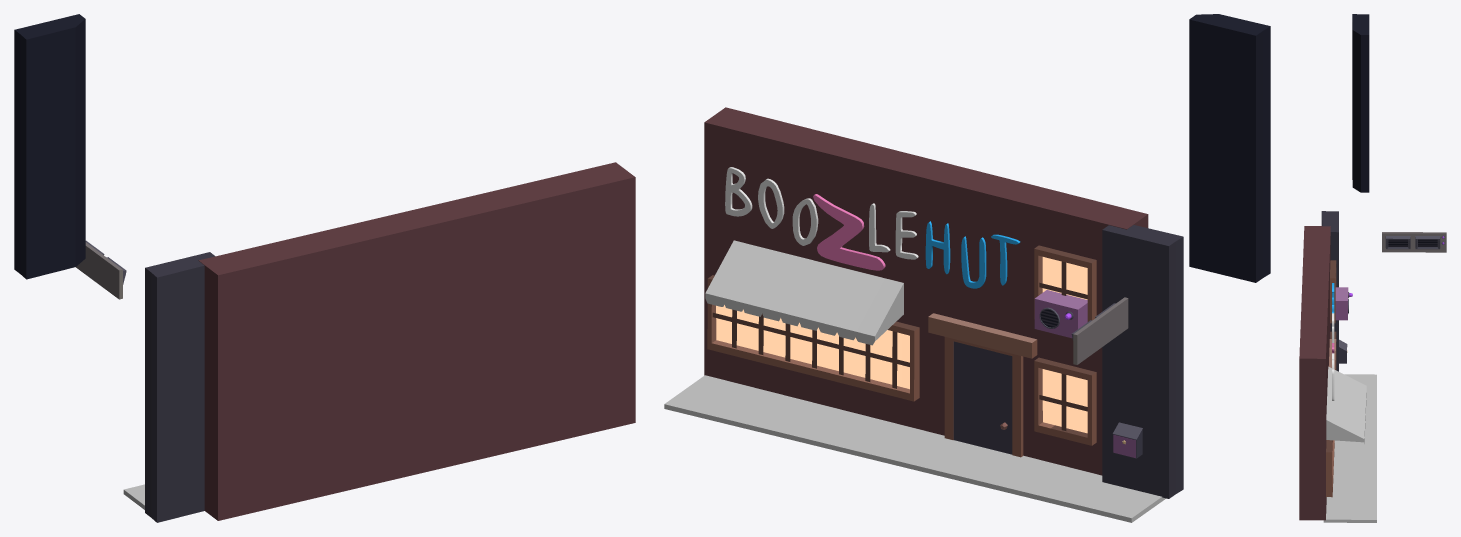
The model's file is CMBoozlehut.fbx.
3 renders of one model, left to right at view 1: azimuth 30°, elevation 25°; view 2: azimuth 150°, elevation 25°; view 3: azimuth 270°, elevation 25°, orthographic. The views are drawn at different scales.
Visible parts, largest first — view 1: CrateFacade.013, CrateSupport.002, CrateSupport.001, Vents.008; view 2: CrateFacade.013, CrateSupport.002, CrateSupport.001, Platform.068, Windows.042, Awning.172, Text.046, CornerHome_Door.034, CornerHome_DoorFrame.071, ACUnit.008, Vents.008, Mailbox.028; view 3: CrateFacade.013, Platform.068, CrateSupport.002, Awning.172, Vents.008, CrateSupport.001, Windows.042, ACUnit.008, Text.046.
Boxes of the visible parts, <box> form: CrateFacade.013: <box>198,162,635,520</box>; CrateSupport.002: <box>14,14,85,279</box>; CrateSupport.001: <box>145,252,215,522</box>; Vents.008: <box>76,240,126,299</box>; CrateFacade.013: <box>704,107,1148,475</box>; CrateSupport.002: <box>1189,14,1270,282</box>; CrateSupport.001: <box>1102,225,1183,498</box>; Platform.068: <box>664,375,1165,522</box>; Windows.042: <box>707,245,1096,445</box>; Awning.172: <box>705,240,903,345</box>; Text.046: <box>725,167,1020,288</box>; CornerHome_Door.034: <box>953,341,1012,454</box>; CornerHome_DoorFrame.071: <box>928,313,1037,457</box>; ACUnit.008: <box>1034,290,1087,338</box>; Vents.008: <box>1071,297,1128,364</box>; Mailbox.028: <box>1112,422,1142,458</box>; CrateFacade.013: <box>1299,226,1330,520</box>; Platform.068: <box>1323,374,1376,522</box>; CrateSupport.002: <box>1352,14,1369,192</box>; Awning.172: <box>1326,366,1366,443</box>; Vents.008: <box>1382,232,1446,252</box>; CrateSupport.001: <box>1321,211,1338,371</box>; Windows.042: <box>1326,260,1336,497</box>; ACUnit.008: <box>1335,287,1352,320</box>; Text.046: <box>1332,283,1334,400</box>.
Size of the model in its own units: 2132 by 1776 by 726.
